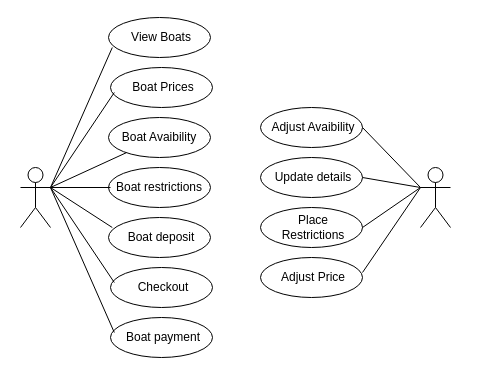
This 484x375 diagram has some shape labels left out. Each missing label, with the box of its shape:
Rent Owner: (420, 166, 450, 228)
Renter: (20, 166, 50, 228)
